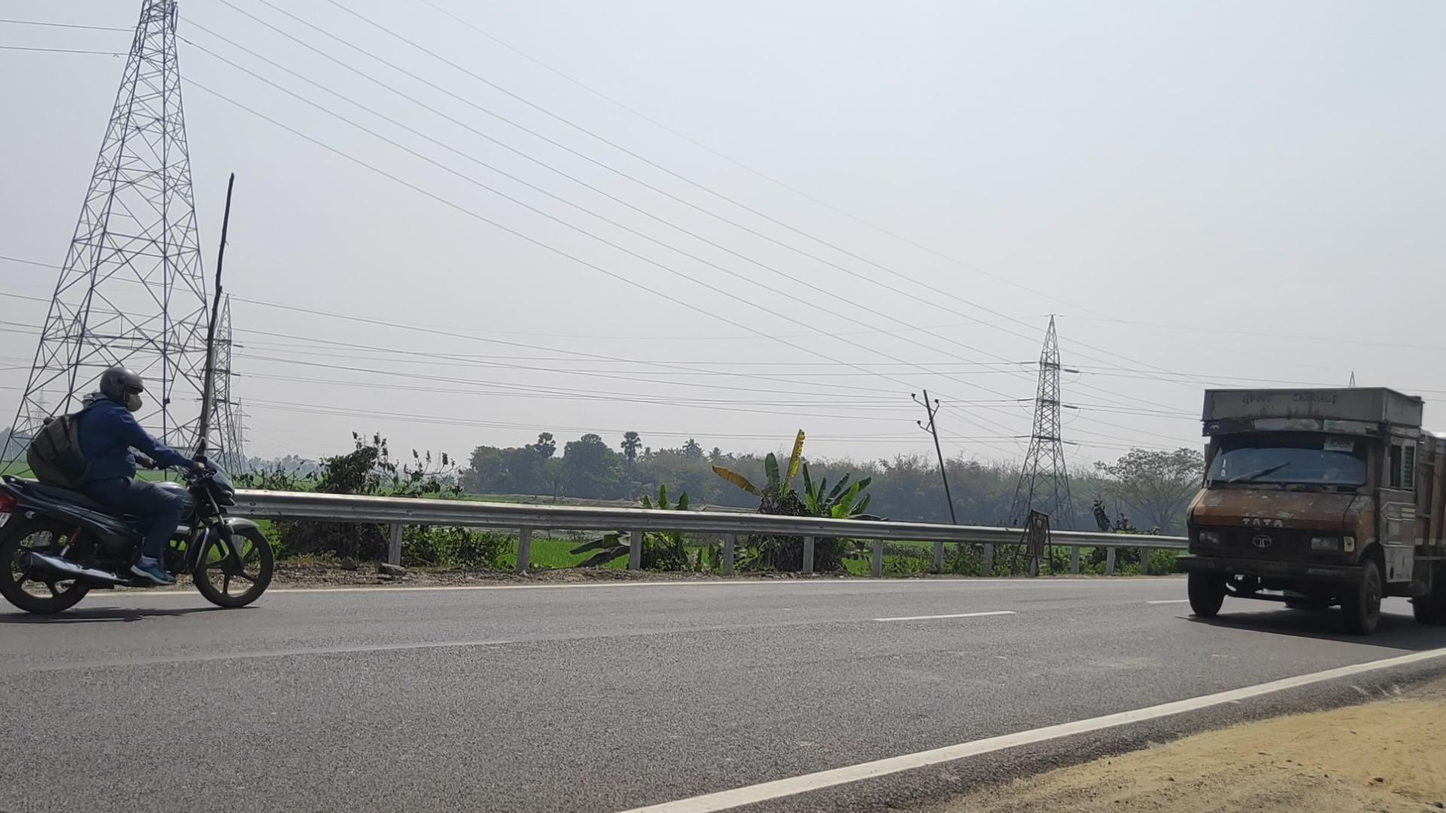bike: (5, 367, 274, 610)
truck: (1180, 386, 1446, 635)
